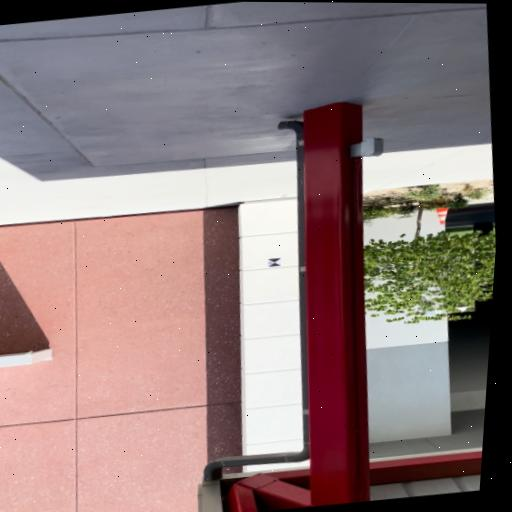target6: (266, 258, 281, 267)
